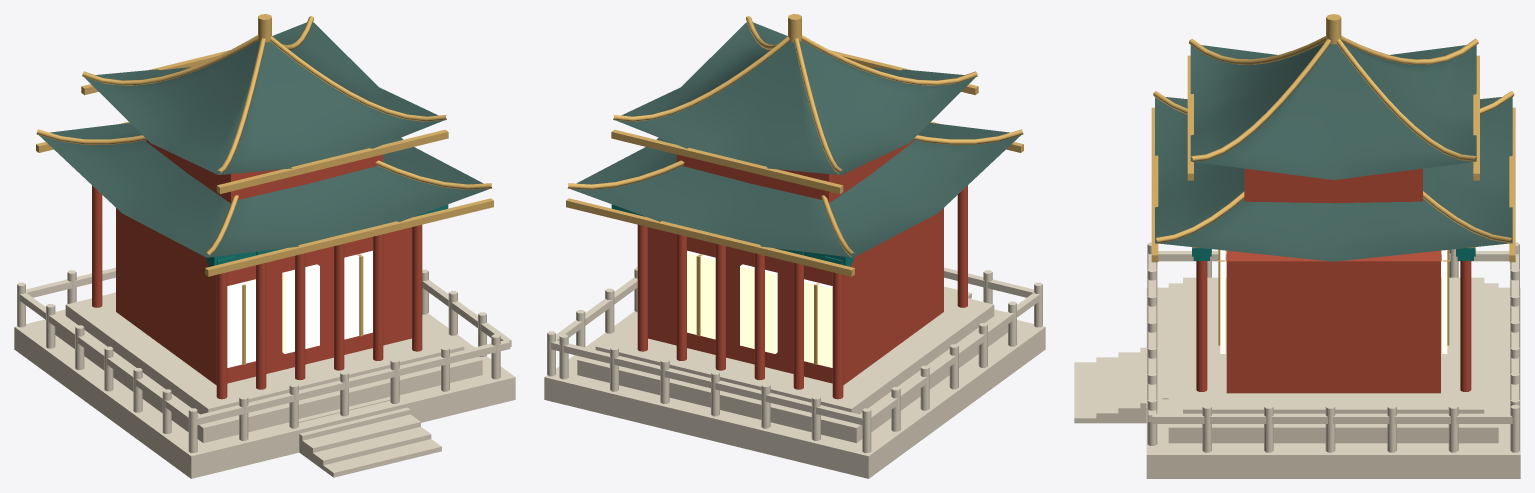
File: lansheng.glb
3 renders of one model, left to right at view 1: azimuth 30°, elevation 25°; view 2: azimuth 150°, elevation 25°; view 3: azimuth 270°, elevation 25°, orthographic. The views are drawn at different scales.
Bounding box in the file's own units: 1.8 × 1.9 × 2.03.
